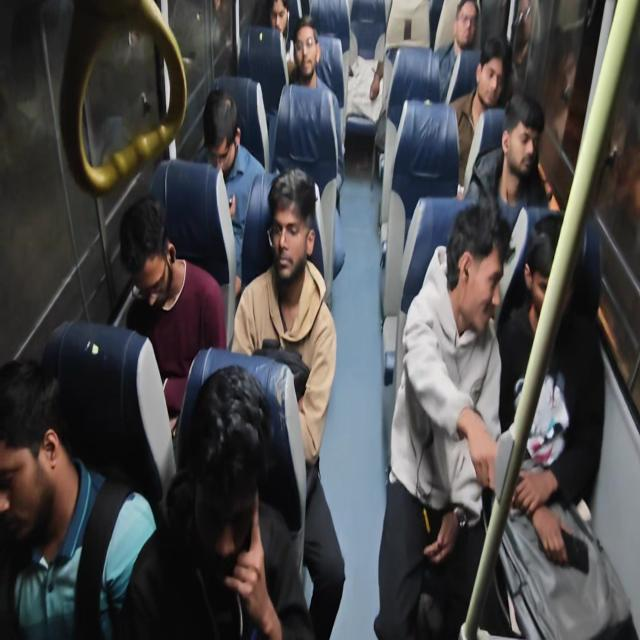person: (373, 196, 510, 638), (491, 227, 637, 638), (230, 167, 346, 638), (119, 364, 314, 638), (0, 356, 157, 639), (118, 193, 227, 429), (199, 87, 267, 292), (272, 17, 345, 204), (463, 92, 559, 215), (498, 230, 554, 432), (448, 34, 511, 197), (436, 0, 481, 104), (542, 25, 580, 148), (507, 0, 538, 96), (269, 0, 295, 76)
